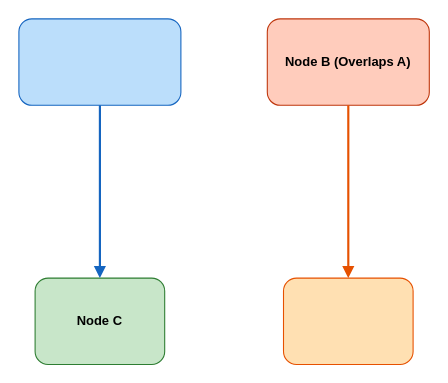
Some shapes in this 448 by 383 pixel diagram are drawn without their labels. The shapes that lost their labels are listed below. From the top down, each one's centre as x and y in pixels, then its label:
the point at 99,61: Node A
the point at 347,320: Node D
